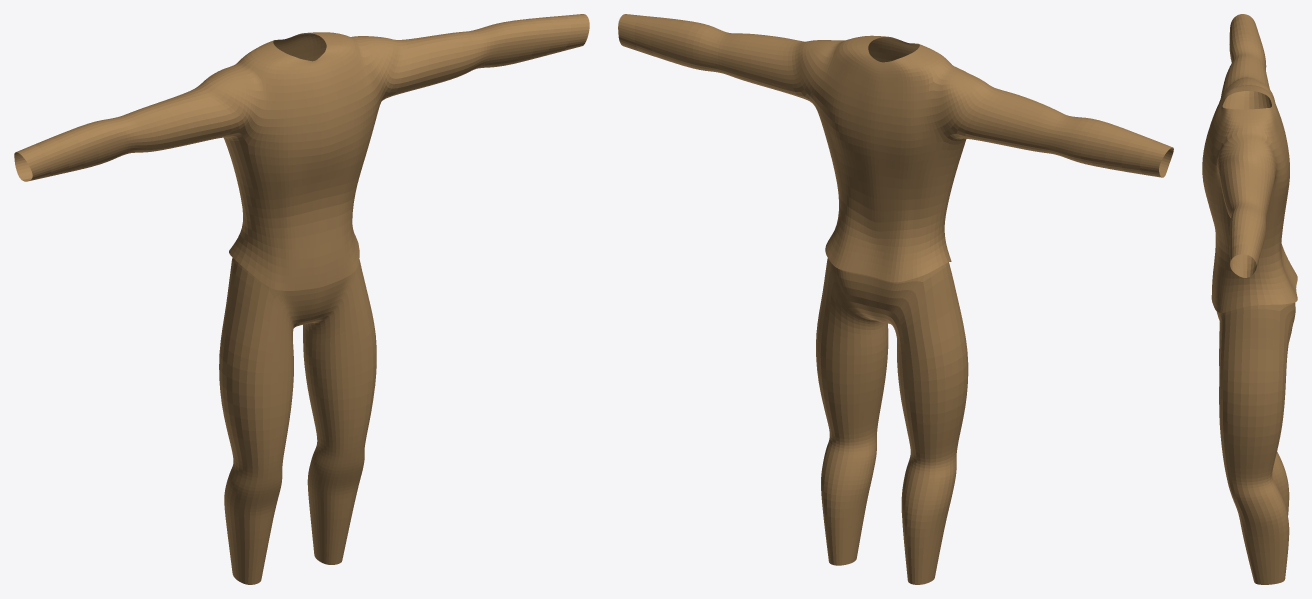
File: ClothingOlderBro2.fbx
3 views of the same model, side by side, from view 1: azimuth 30°, elevation 25°; view 2: azimuth 150°, elevation 25°; view 3: azimuth 270°, elevation 25° (orthographic). The views are drawn at different scales.
Parts seen in each view (by area): view 1: Cube.005, Cube.013; view 2: Cube.005, Cube.013; view 3: Cube.005, Cube.013.
Boxes of the visible parts, <box> form: Cube.005: <box>14,14,589,290</box>; Cube.013: <box>219,257,376,584</box>; Cube.005: <box>618,14,1173,282</box>; Cube.013: <box>816,258,968,584</box>; Cube.005: <box>1202,14,1297,312</box>; Cube.013: <box>1216,302,1295,584</box>.
Size of the model in its own units: 964 by 868 by 162.
